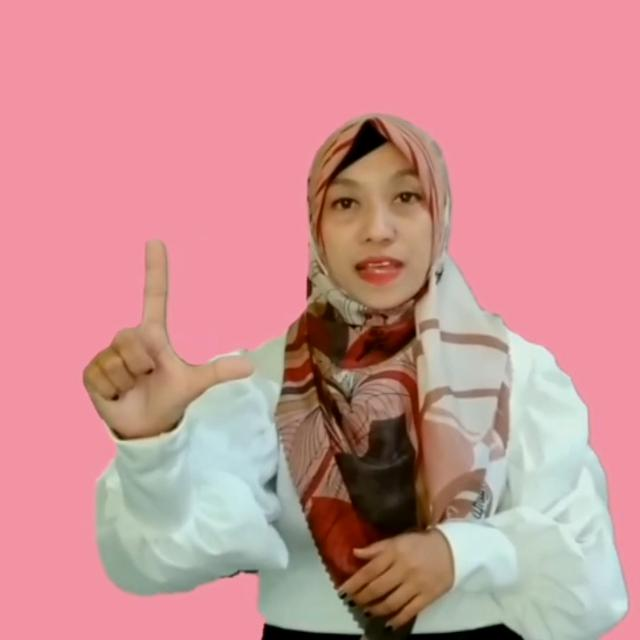L: (77, 232, 259, 434)
